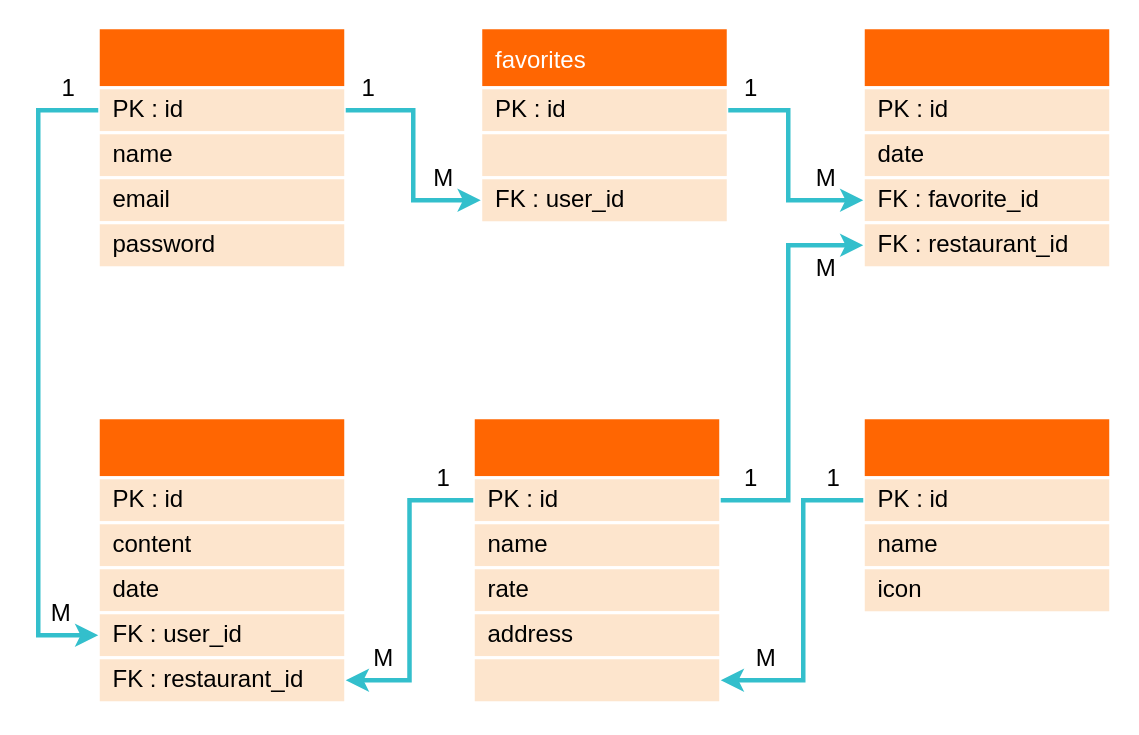
This 1139x735 diagram has some shape labels left out. Each missing label, with the box of its shape:
categories: (861, 416, 1112, 614)
comments: (96, 416, 346, 704)
data-last-use: (478, 130, 729, 178)
favorite_restaurants: (861, 26, 1112, 268)
FK : category_id: (471, 656, 722, 704)
restaurants: (471, 416, 722, 704)
users: (96, 26, 346, 268)
